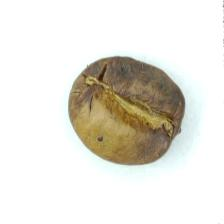NG: (84, 55, 183, 134)
